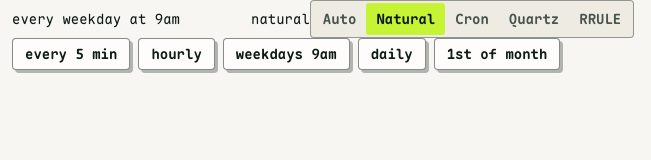
Test: ScheduleSyntaxToggle › converts on every click and reports no notice when the conversion is exact
Click the radio button labelled "Cron". click: (472, 19)
box: [455,10,489,28]
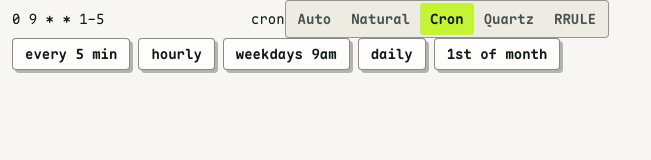
Expected: the field named "expr" holds "0 9 * * 1-5", [12,8,251,31]
Expected: the text named "mode" reads "cron", [251,10,285,28]
Click the radio button labelled "Quartz". click: (509, 19)
box: [484,10,534,28]
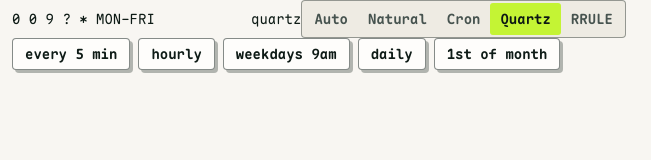
Expected: the field named "expr" holds "0 0 9 ? * MON-FRI", [12,8,251,31]
Click the radio button labelled "RRULE". click: (592, 19)
box: [571,10,613,28]
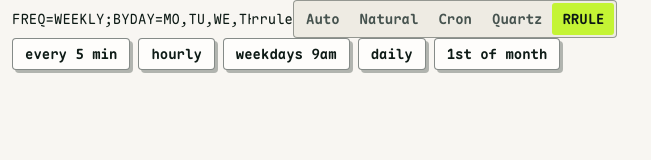
Expected: the field named "expr" holds "FREQ=WEEKLY;BYDAY=MO,TU,WE,TH,FR;BYHOUR=9;BYMINUTE=0", [12,8,251,31]
Click the radio button labelled "Natural". click: (389, 19)
box: [360,10,418,28]
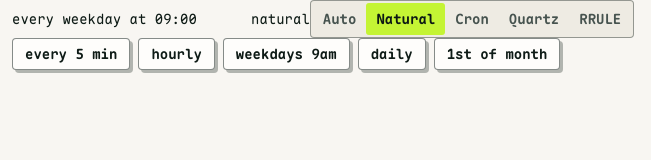
Expected: the field named "expr" holds "every weekday at 09:00", [12,8,251,31]
